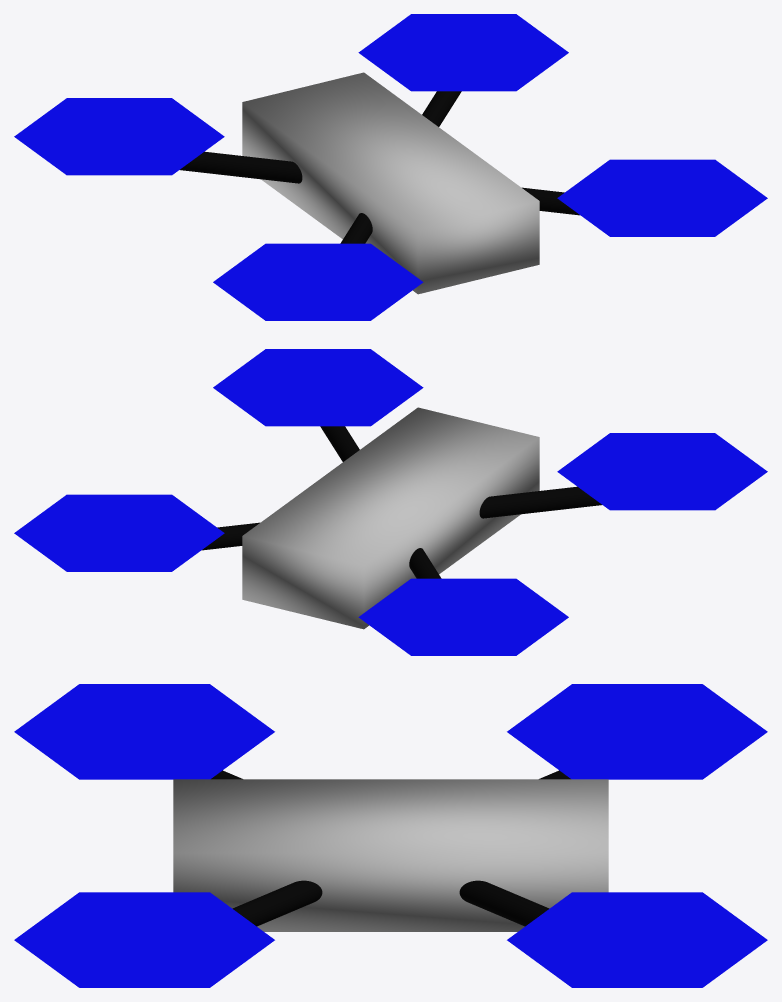
Rendered from drone_model.gltf.
3 views of the same model, one above another, from view 1: azimuth 30°, elevation 25°; view 2: azimuth 150°, elevation 25°; view 3: azimuth 270°, elevation 25° (orthographic). The views are drawn at different scales.
Parts seen in each view (by area): view 1: Renderer Node; view 2: Renderer Node; view 3: Renderer Node.
Part boxes in pixels (box(x1,y1,x2,y2)): Renderer Node: box(14, 14, 767, 320); Renderer Node: box(14, 349, 767, 655); Renderer Node: box(14, 684, 767, 987).
Bounding box in the file's own units: 1.65 × 0.2 × 1.73.
